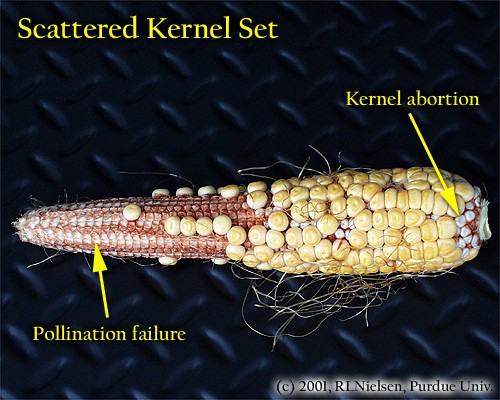corn: (15, 164, 490, 276)
